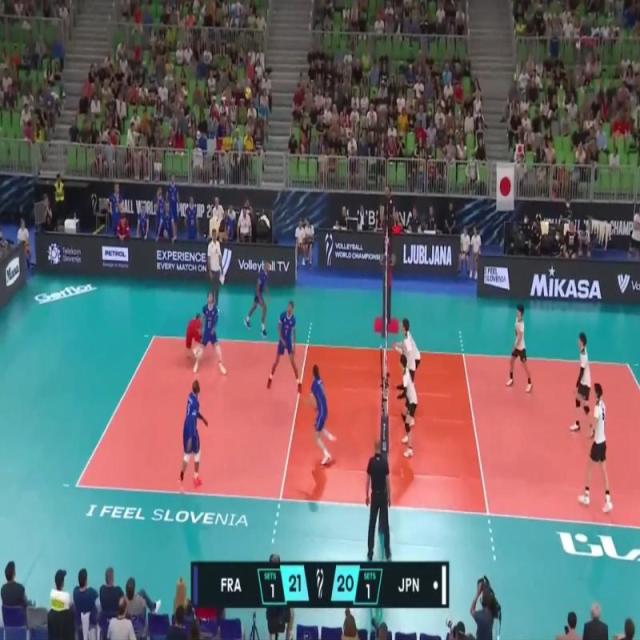volleyball: (244, 86, 253, 100)
